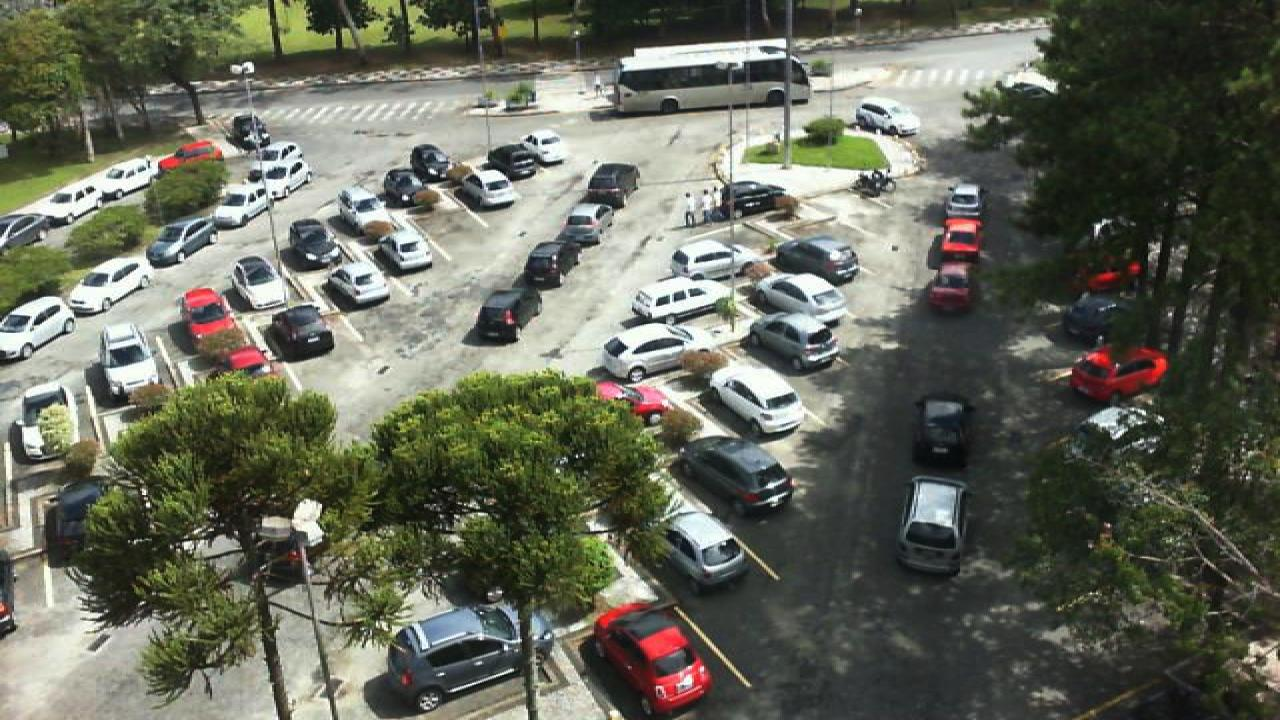Car: (586, 601, 714, 720), (386, 603, 522, 709), (676, 434, 798, 516), (706, 363, 808, 440), (658, 511, 750, 593), (898, 474, 972, 574), (92, 320, 168, 410), (40, 479, 114, 568), (1064, 344, 1172, 403), (598, 318, 696, 380), (748, 312, 842, 376), (752, 272, 850, 330), (630, 274, 736, 324), (14, 382, 78, 464), (68, 255, 154, 316), (912, 392, 976, 469), (0, 294, 74, 360), (768, 236, 860, 285), (264, 303, 336, 359), (474, 286, 542, 344), (1060, 289, 1134, 342), (596, 378, 674, 428), (32, 172, 116, 218), (146, 216, 218, 269), (206, 179, 276, 231), (228, 255, 290, 313), (672, 238, 744, 282), (280, 219, 340, 270), (334, 184, 394, 234), (370, 225, 432, 273), (328, 262, 392, 308), (180, 287, 240, 336), (924, 260, 978, 314), (88, 156, 158, 197), (580, 160, 640, 207), (724, 180, 794, 217), (524, 243, 580, 289), (456, 168, 514, 212), (0, 210, 62, 251), (852, 100, 922, 136), (552, 204, 608, 248), (228, 344, 286, 385), (252, 162, 310, 201), (936, 216, 986, 260), (486, 141, 540, 180), (408, 144, 460, 183), (246, 140, 304, 174), (154, 138, 220, 166), (224, 112, 272, 150), (520, 127, 568, 164), (942, 182, 984, 221)
